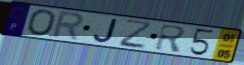5: (188, 27, 216, 57)
J: (92, 18, 120, 44)
O: (25, 8, 57, 37)
R: (49, 10, 86, 43), (153, 23, 189, 54)
Z: (118, 19, 154, 51)
